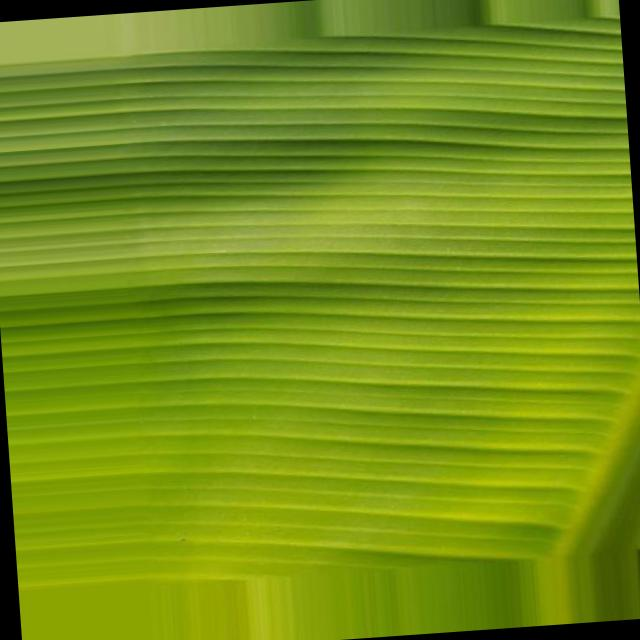Banana_Healthy: (54, 104, 530, 480)
